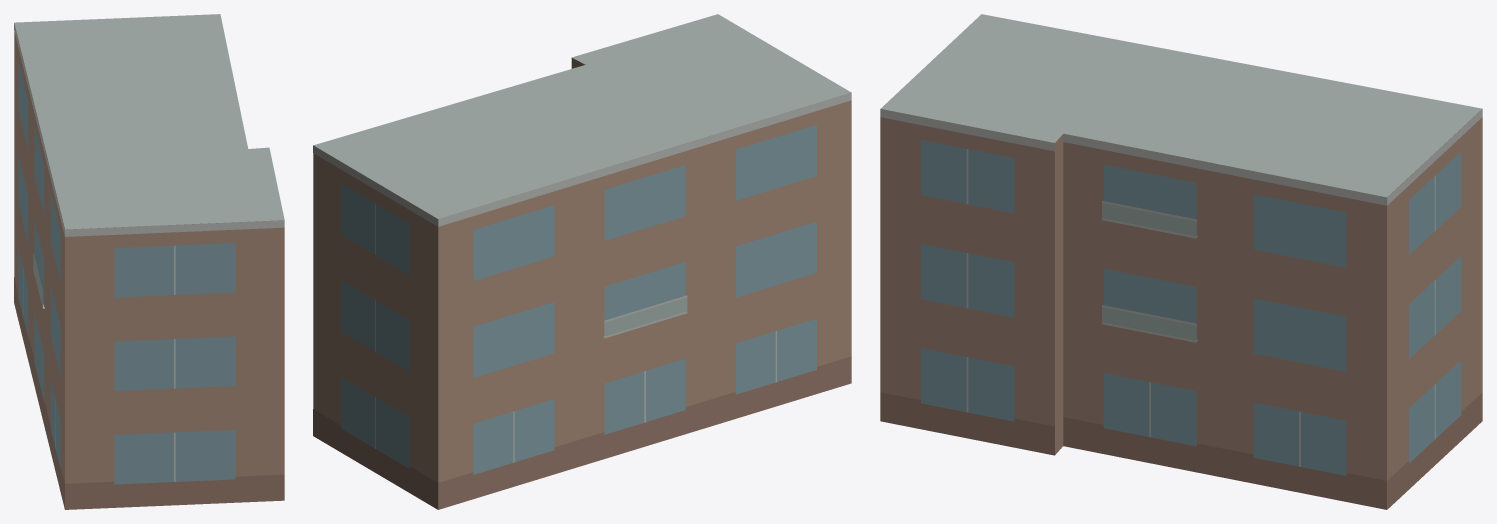
The model's file is survey-upis-32772745.glb.
The picture shows the model from 3 angles, left to right: view 1: azimuth 30°, elevation 25°; view 2: azimuth 150°, elevation 25°; view 3: azimuth 270°, elevation 25°; orthographic projection. The views are drawn at different scales.
Visible parts, largest first — view 1: survey-upis-32772745.tmp; view 2: survey-upis-32772745.tmp; view 3: survey-upis-32772745.tmp.
Boxes of the visible parts, bbox=[...] form: survey-upis-32772745.tmp: bbox=[14, 14, 284, 509]; survey-upis-32772745.tmp: bbox=[313, 14, 851, 509]; survey-upis-32772745.tmp: bbox=[880, 14, 1482, 509].
Size of the model in its own units: 11.53 by 9.15 by 15.99.
